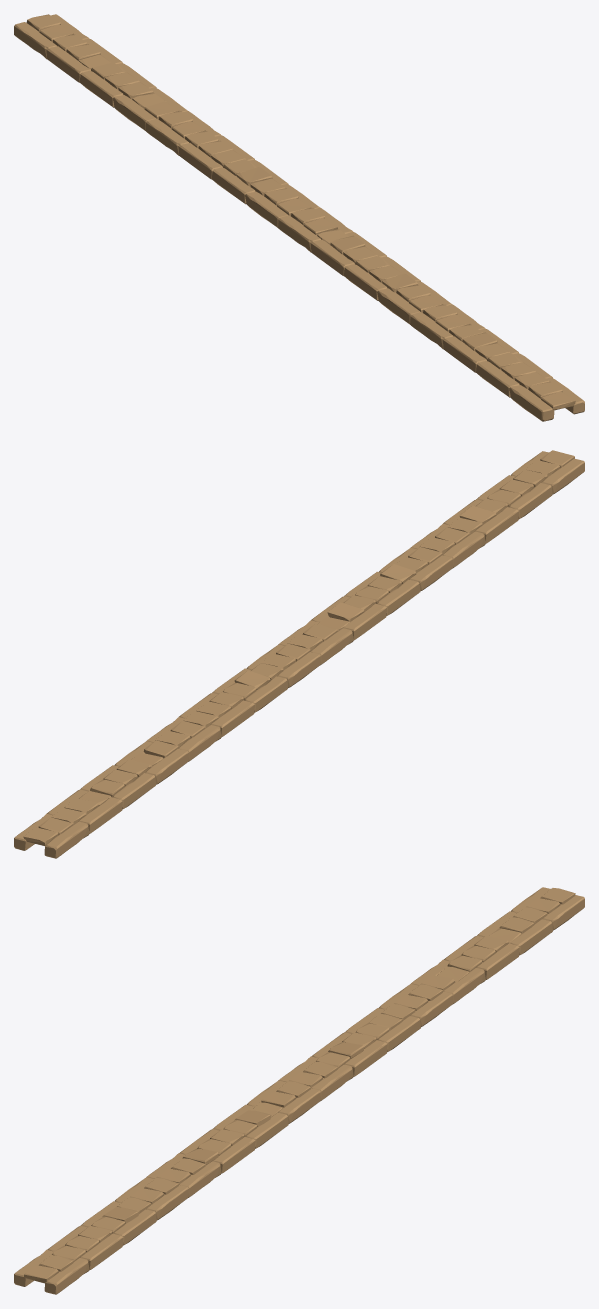
Rendered from SM_curbstones_03.fbx.
The picture shows the model from 3 angles, top to bottom: view 1: azimuth 30°, elevation 25°; view 2: azimuth 150°, elevation 25°; view 3: azimuth 330°, elevation 25°; orthographic projection.
Parts seen in each view (by area): view 1: Object33213; view 2: Object33213; view 3: Object33213.
Part boxes in pixels (x1,y1,x2,y2): Object33213: (14,14,584,421); Object33213: (14,450,584,858); Object33213: (14,887,584,1294).
Bounding box in the file's own units: 39.69 × 14.11 × 825.
